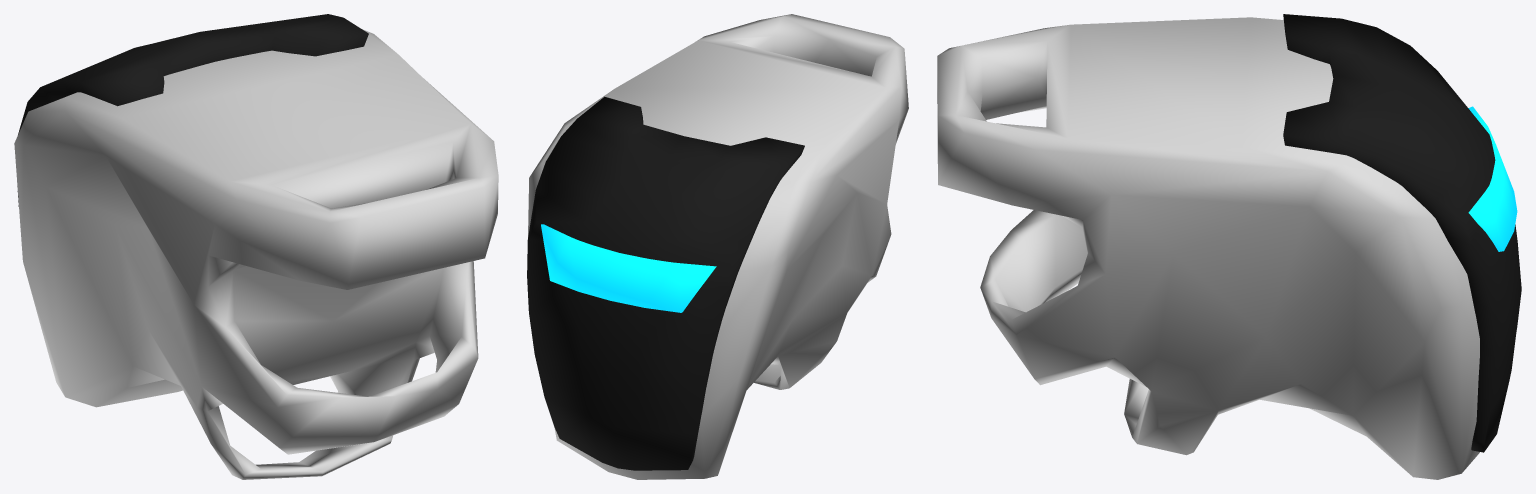
File: sentinel.glb
The picture shows the model from 3 angles, left to right: view 1: azimuth 30°, elevation 25°; view 2: azimuth 150°, elevation 25°; view 3: azimuth 270°, elevation 25°; orthographic projection. The views are drawn at different scales.
Visible parts, largest first — view 1: SentinelCase, SentinelFace; view 2: SentinelCase, SentinelFace, SentinelEye; view 3: SentinelCase, SentinelFace, SentinelEye.
Part boxes in pixels (x1,y1,x2,y2): SentinelCase: (14, 29, 498, 479); SentinelFace: (17, 14, 368, 206); SentinelCase: (528, 14, 908, 479); SentinelFace: (527, 96, 804, 470); SentinelEye: (541, 224, 716, 312); SentinelCase: (937, 17, 1479, 479); SentinelFace: (1283, 14, 1521, 452); SentinelEye: (1468, 106, 1517, 251).
Size of the model in its own units: 1.22 by 1.38 by 1.94.
